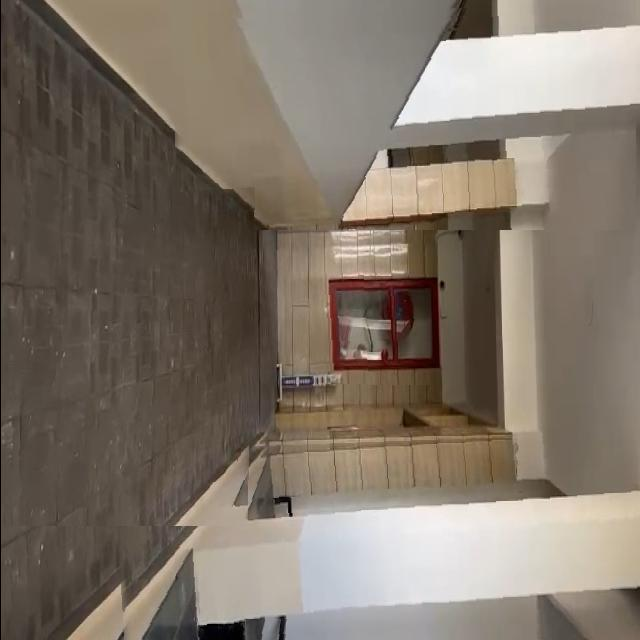door: (313, 262, 430, 385)
floor: (0, 187, 254, 526)
wall: (111, 432, 640, 640), (168, 0, 635, 230)
